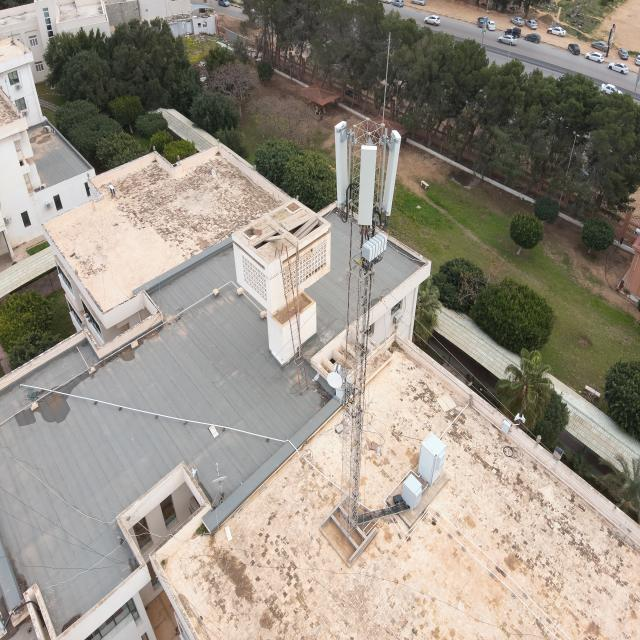antenna: (381, 128, 403, 219), (358, 140, 378, 230), (333, 120, 351, 210)
lighnig-rad: (381, 31, 392, 126)
microware-dish: (326, 361, 344, 390)
power-box: (336, 377, 356, 402)
radio-unit: (362, 232, 387, 261)
